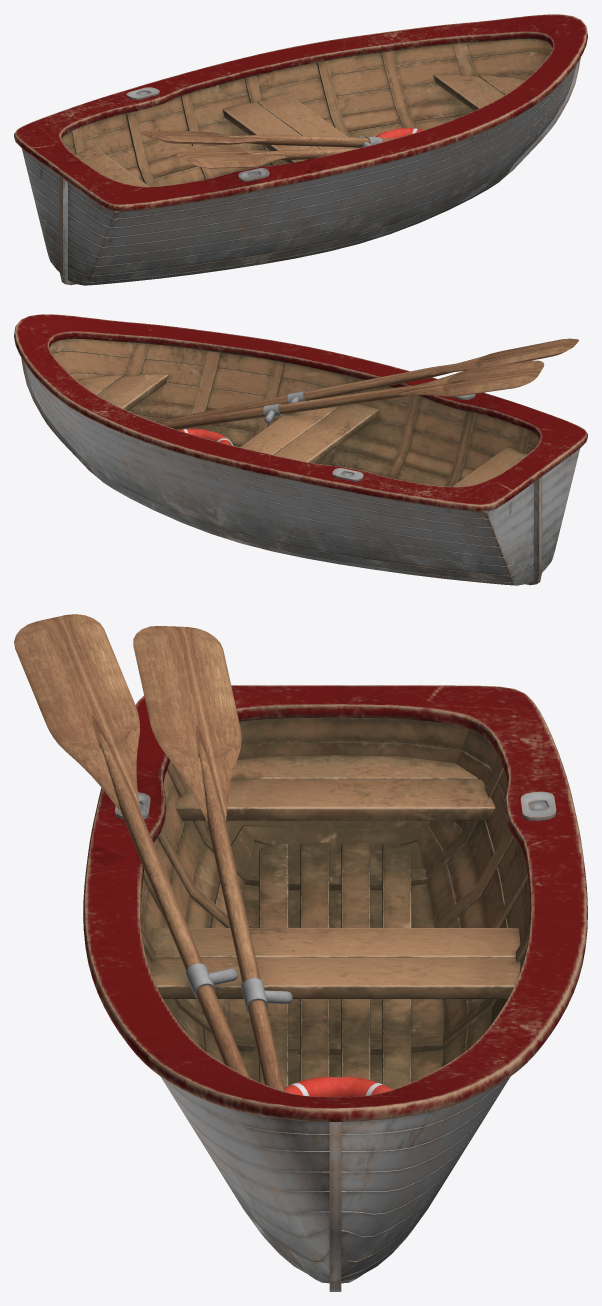
File: Small Wooden Boat.fbx
The picture shows the model from 3 angles, top to bottom: view 1: azimuth 30°, elevation 25°; view 2: azimuth 150°, elevation 25°; view 3: azimuth 270°, elevation 25°; orthographic projection. The views are drawn at different scales.
Parts seen in each view (by area): view 1: Boat Shell, Boat Shelf, Boat Seats, Boat Ribs, Oar, Oar.001; view 2: Boat Shell, Boat Shelf, Boat Seats, Oar.001, Boat Ribs, Oar, Life Tube; view 3: Boat Shell, Boat Shelf, Boat Seats, Boat Ribs, Oar, Oar.001, Life Tube, Oar Pivot, Oar Pivot.001.
Boxes of the visible parts, x1,y1,x2,y2 form: Boat Shell: [22, 38, 580, 285]; Boat Shelf: [14, 14, 587, 211]; Boat Seats: [74, 74, 524, 186]; Boat Ribs: [71, 43, 476, 186]; Oar: [170, 145, 358, 168]; Oar.001: [140, 130, 394, 147]; Boat Shell: [21, 338, 579, 585]; Boat Shelf: [14, 314, 587, 511]; Boat Seats: [77, 374, 527, 486]; Oar.001: [157, 360, 544, 429]; Boat Ribs: [125, 343, 530, 486]; Oar: [156, 338, 578, 422]; Life Tube: [178, 428, 230, 444]; Boat Shell: [141, 717, 530, 1291]; Boat Shelf: [83, 685, 587, 1121]; Boat Seats: [151, 755, 520, 998]; Boat Ribs: [141, 758, 529, 1089]; Oar: [14, 614, 249, 1077]; Oar.001: [133, 626, 284, 1091]; Life Tube: [284, 1076, 392, 1096]; Oar Pivot: [185, 963, 238, 999]; Oar Pivot.001: [241, 977, 292, 1012].
Size of the model in its own units: 399 by 137 by 207.
